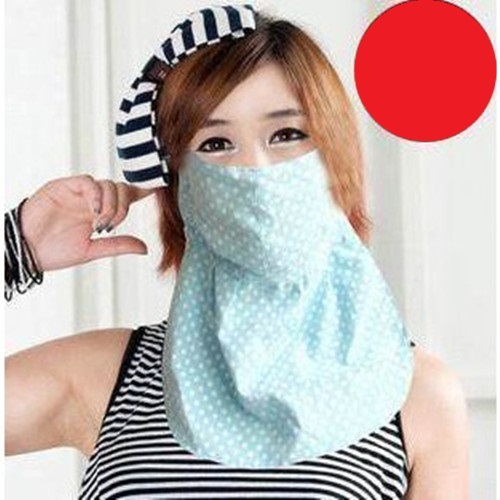face_mask: (173, 54, 338, 275)
